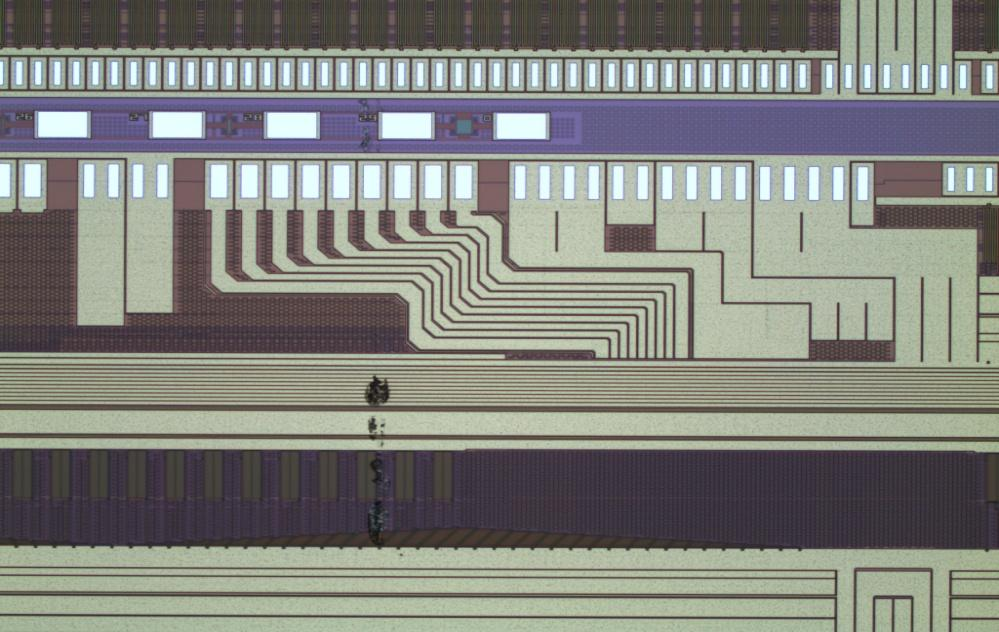SCRATCH: (353, 374, 395, 562)
